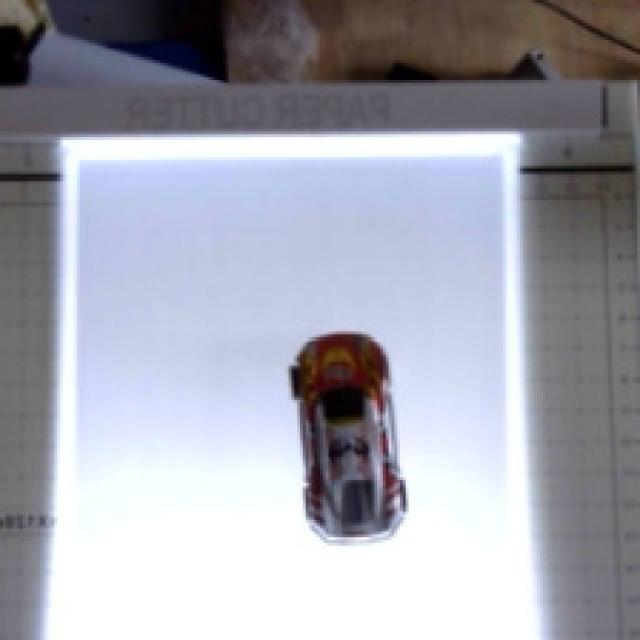Red Car: (250, 303, 456, 597)
